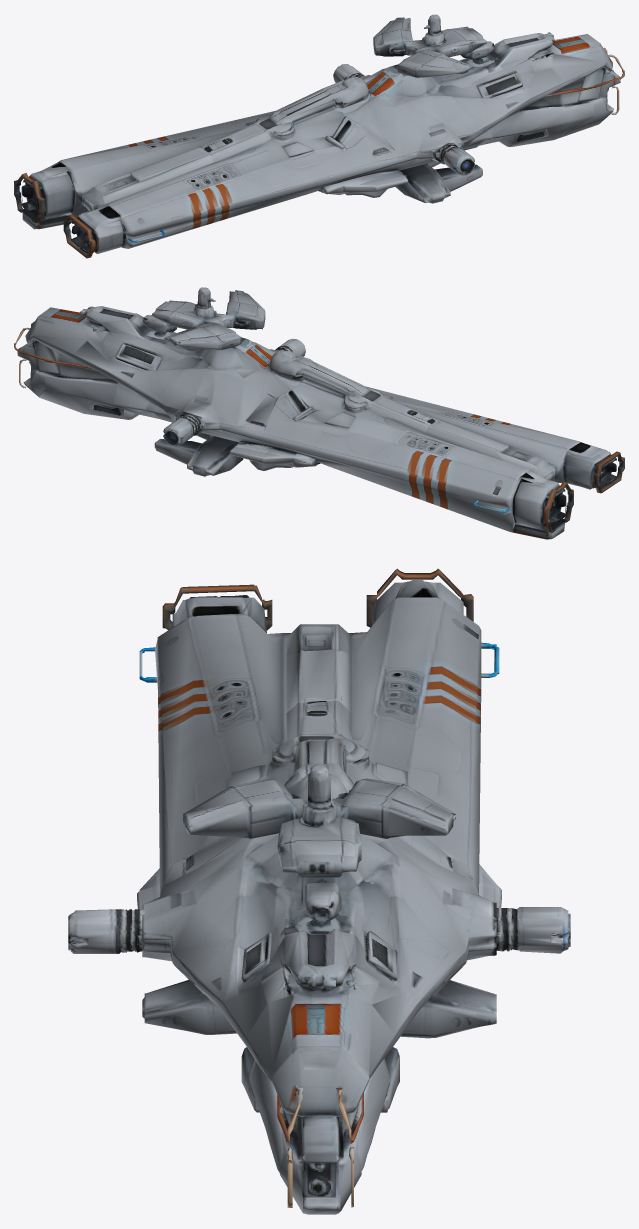
The model's file is 3f61920b-fcd5-4434-be98-f63934783d96_model.glb.
The picture shows the model from 3 angles, top to bottom: view 1: azimuth 30°, elevation 25°; view 2: azimuth 150°, elevation 25°; view 3: azimuth 270°, elevation 25°; orthographic projection. The views are drawn at different scales.
Parts seen in each view (by area): view 1: tripo_node_3f61920b-fcd5-4434-be98-f63934783d96; view 2: tripo_node_3f61920b-fcd5-4434-be98-f63934783d96; view 3: tripo_node_3f61920b-fcd5-4434-be98-f63934783d96.
Part boxes in pixels (x1,y1,x2,y2): tripo_node_3f61920b-fcd5-4434-be98-f63934783d96: [14, 14, 624, 258]; tripo_node_3f61920b-fcd5-4434-be98-f63934783d96: [14, 287, 624, 539]; tripo_node_3f61920b-fcd5-4434-be98-f63934783d96: [68, 568, 570, 1214].
Size of the model in its own units: 18.12 by 5 by 6.99.
Materials: 1 (1 with a texture image).
